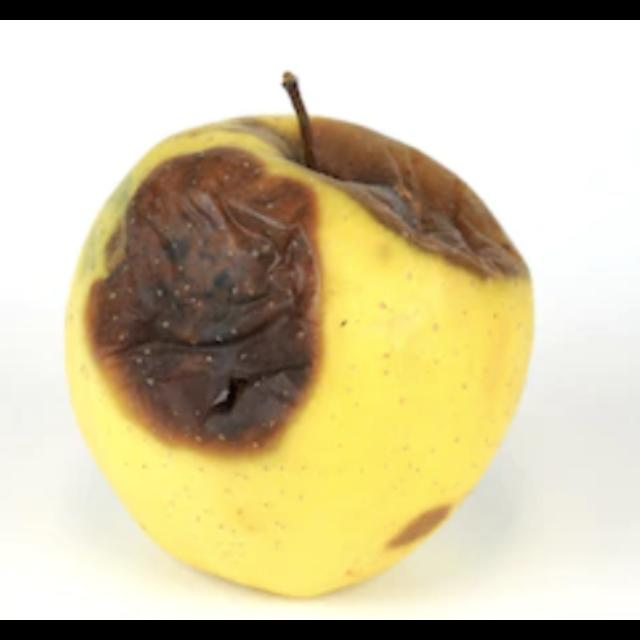Apel Tidak Segar: (69, 107, 543, 601)
